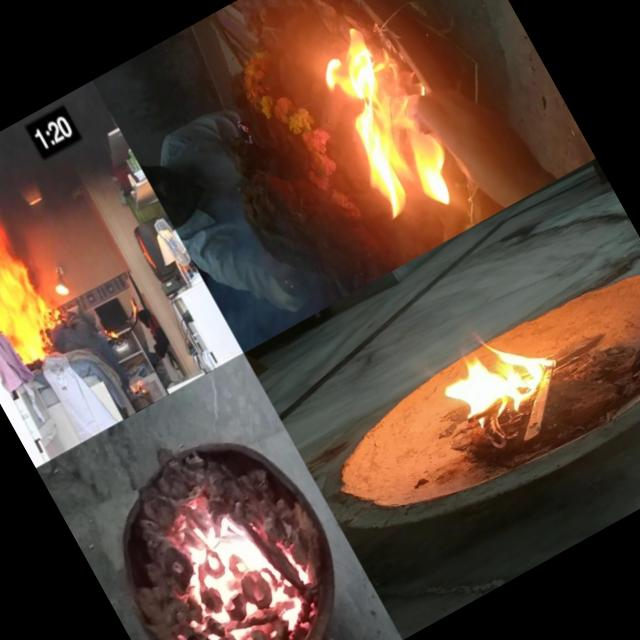fire: (132, 469, 340, 640), (408, 302, 560, 441), (0, 203, 77, 376), (268, 230, 402, 328)
smoke: (92, 35, 218, 160), (150, 130, 222, 208)
